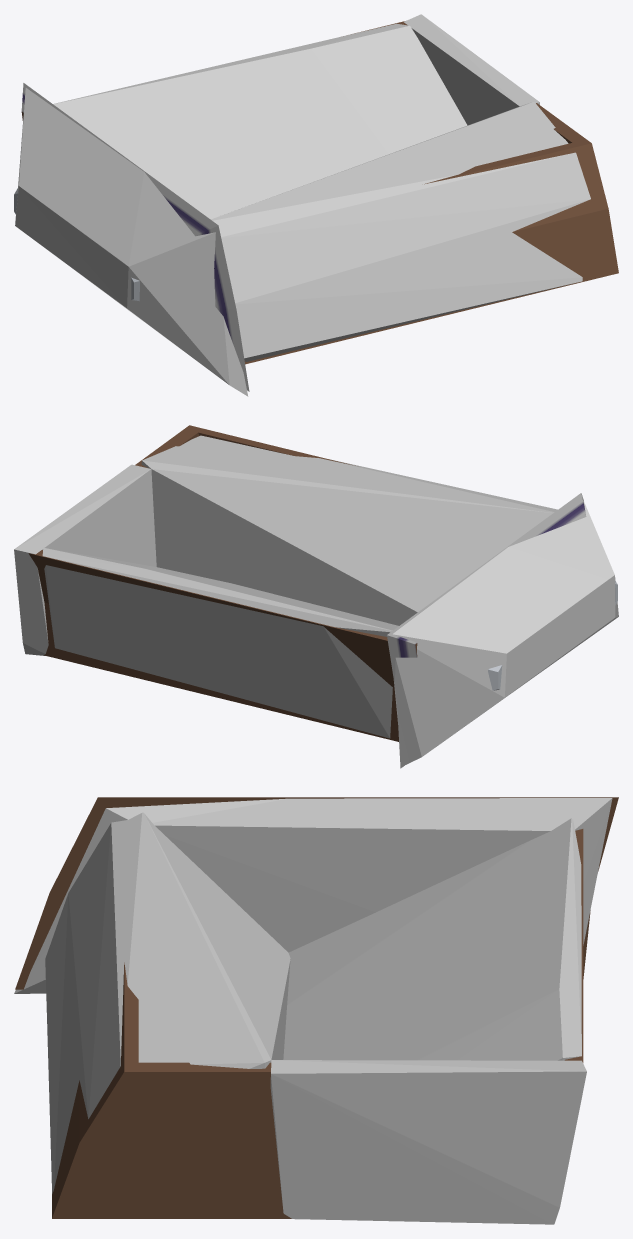
Rendered from SM_Prop_Desk_01_Drawer_r_03.fbx.
The picture shows the model from 3 angles, top to bottom: view 1: azimuth 30°, elevation 25°; view 2: azimuth 150°, elevation 25°; view 3: azimuth 270°, elevation 25°; orthographic projection. The views are drawn at different scales.
Visible parts, largest first — view 1: SM_Prop_Desk_01_Drawer_r_03_ConvexHulls, SM_Prop_Desk_01_Drawer_r_03; view 2: SM_Prop_Desk_01_Drawer_r_03_ConvexHulls, SM_Prop_Desk_01_Drawer_r_03; view 3: SM_Prop_Desk_01_Drawer_r_03_ConvexHulls, SM_Prop_Desk_01_Drawer_r_03.
Part boxes in pixels (x1=…): SM_Prop_Desk_01_Drawer_r_03_ConvexHulls: x1=15, y1=14, x2=590, y2=396; SM_Prop_Desk_01_Drawer_r_03: x1=14, y1=21, x2=618, y2=391; SM_Prop_Desk_01_Drawer_r_03_ConvexHulls: x1=14, y1=435, x2=618, y2=764; SM_Prop_Desk_01_Drawer_r_03: x1=28, y1=425, x2=617, y2=768; SM_Prop_Desk_01_Drawer_r_03_ConvexHulls: x1=14, y1=798, x2=612, y2=1224; SM_Prop_Desk_01_Drawer_r_03: x1=15, y1=797, x2=618, y2=1218.
Bounding box in the file's own units: 61 × 53.11 × 19.15.
2 materials, 1 textured.
